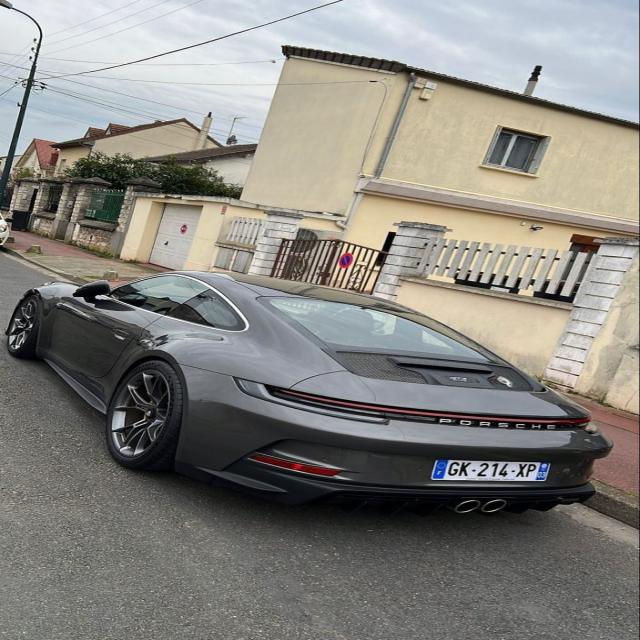Placas: (421, 454, 555, 490)
